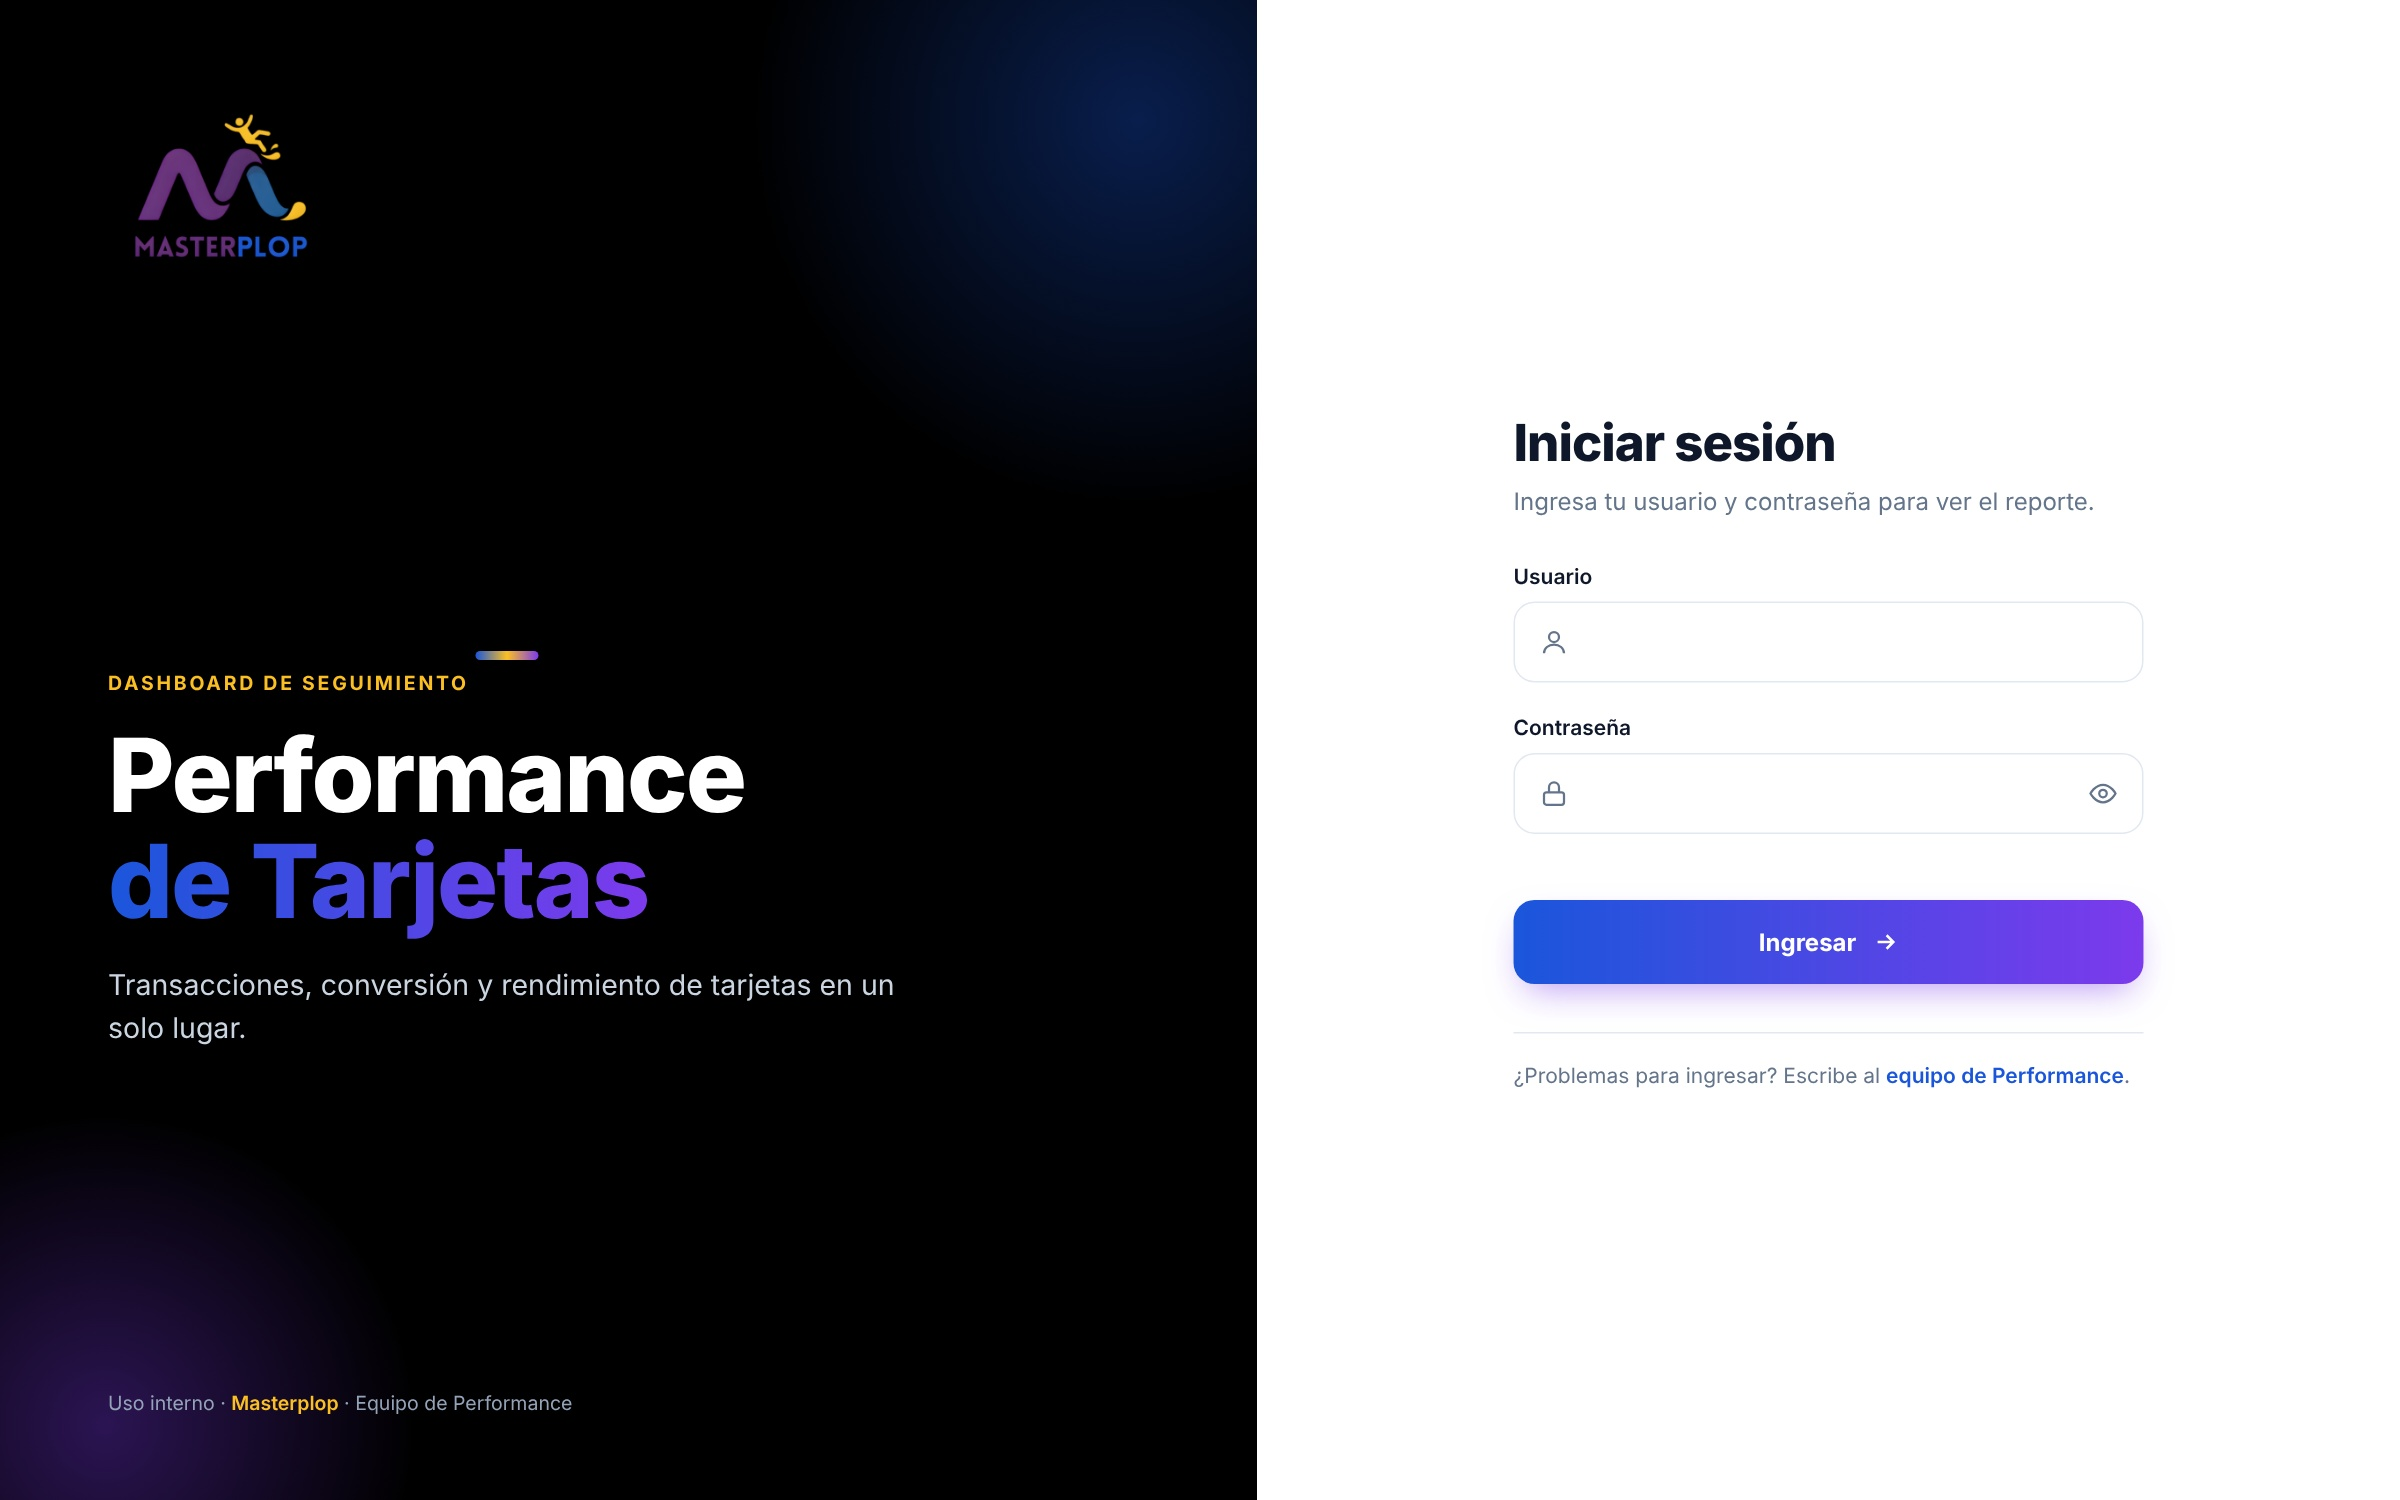

What the dashboard file says about the page in this screenshot:
{"tool":"powerbi","page":{"name":"HOME","canvas":[1920,1080],"ordinal":0},"visuals":[{"type":"slicer","fields":{"Values":["LOGIN.USER"]},"box":[1286,438,416,54],"z":0},{"type":"slicer","fields":{"Values":["Parámetro Contraseña.Parámetro Contraseña"]},"box":[1286.2,541.2,308.8,73.8],"z":1000},{"type":"cardVisual","fields":{"Data":["MEDIDAS_DAX.Estatus Login"]},"box":[1201.2,605,280,37.5],"z":2000},{"type":"cardVisual","fields":{"Data":["MEDIDAS_DAX.CONTRA_TEXTO"]},"box":[1526.2,605,230,37.5],"z":3000},{"type":"actionButton","box":[1201.7,643.3,525,75],"z":4000}]}

Visuals, with their boxes on the page's 1920x1080 design canvas (x1, y1, x2, y2). These are canvas units, not pixel positions in the 2400x1500 screenshot, which may show the page scaled, cropped or inside an application window:
slicer - LOGIN.USER: l=1286, t=438, r=1702, b=492
slicer - Parámetro Contraseña.Parámetro Contraseña: l=1286, t=541, r=1595, b=615
cardVisual - MEDIDAS_DAX.Estatus Login: l=1201, t=605, r=1481, b=642
cardVisual - MEDIDAS_DAX.CONTRA_TEXTO: l=1526, t=605, r=1756, b=642
actionButton: l=1202, t=643, r=1727, b=718
